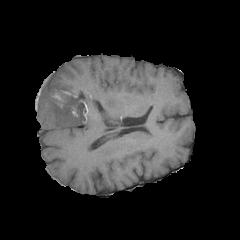glioma: (36, 74, 92, 129)
